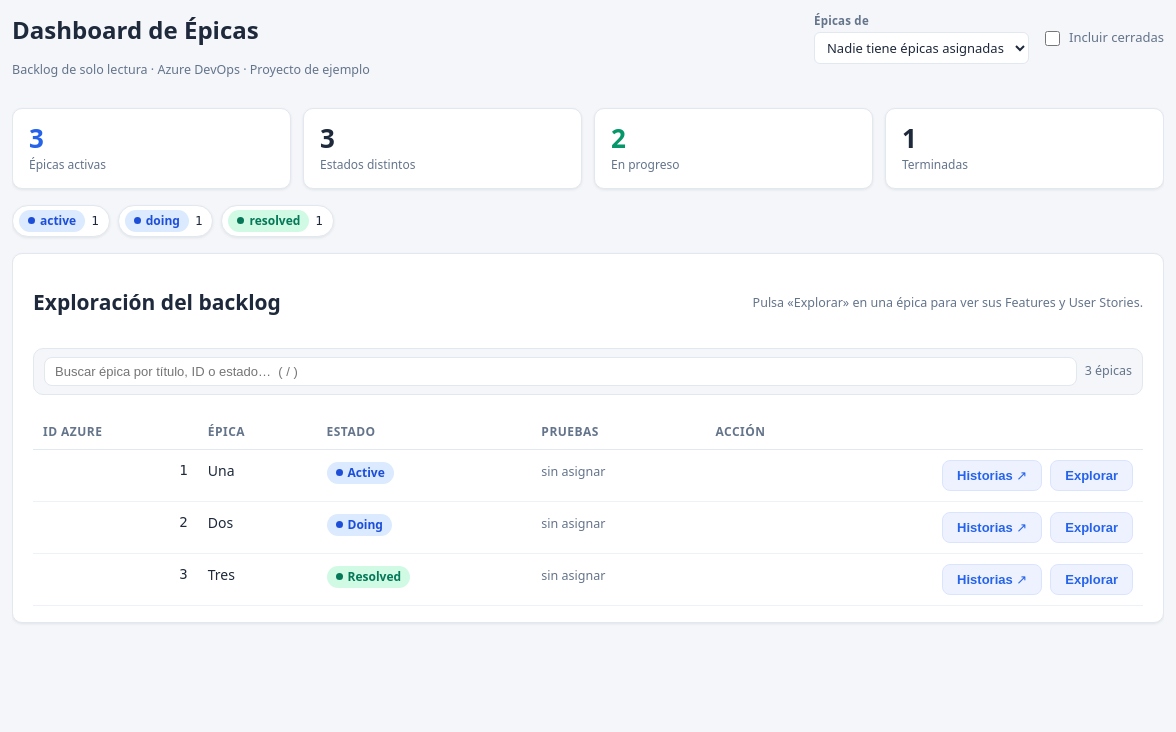
Test case: Buscador de épicas › anuncia cuántas épicas quedan y se limpia con el botón
Expected: the text "Una" is shown, [198,450,316,502]
Expected: the text "3 épicas" is shown, [1085,362,1132,381]
Type "d" into the search field labelled "Buscar épica por título, ID o estado… ( / )" at (560, 372), box [44,357,1077,386]
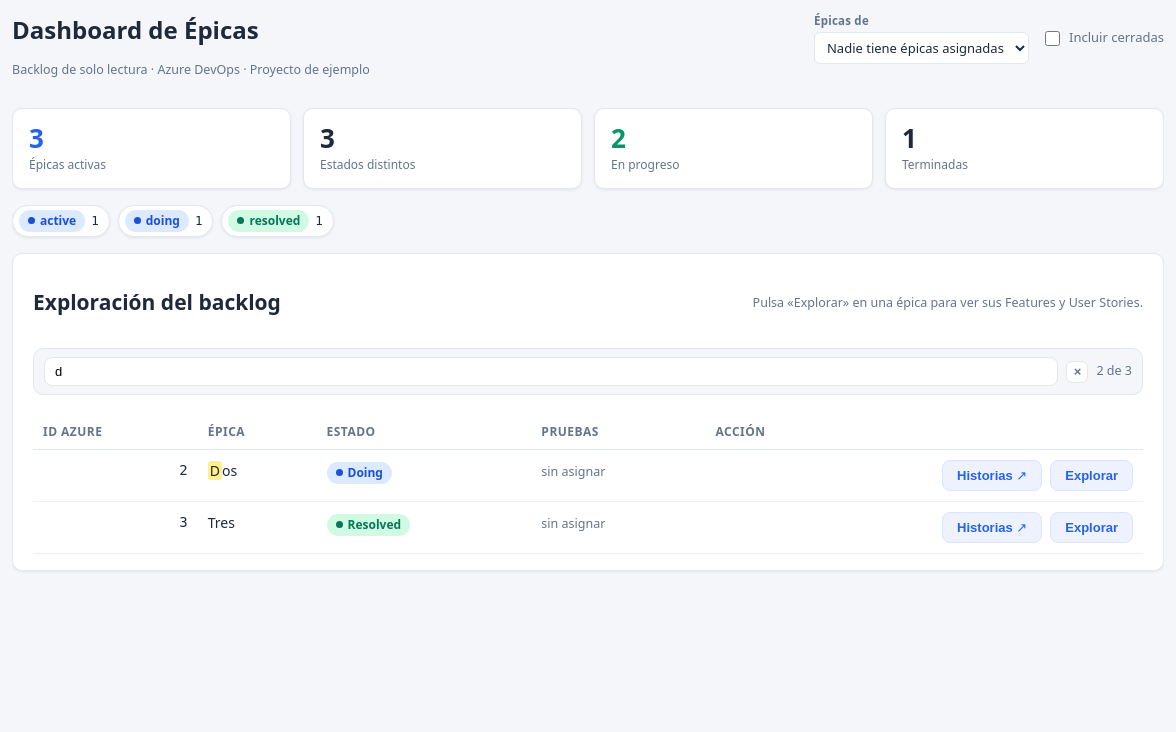
Expected: the text "2 de 3" is shown, [1096,362,1132,381]
Click the button named "limpiar la búsqueda" at (1078, 372), box [1066,361,1088,383]
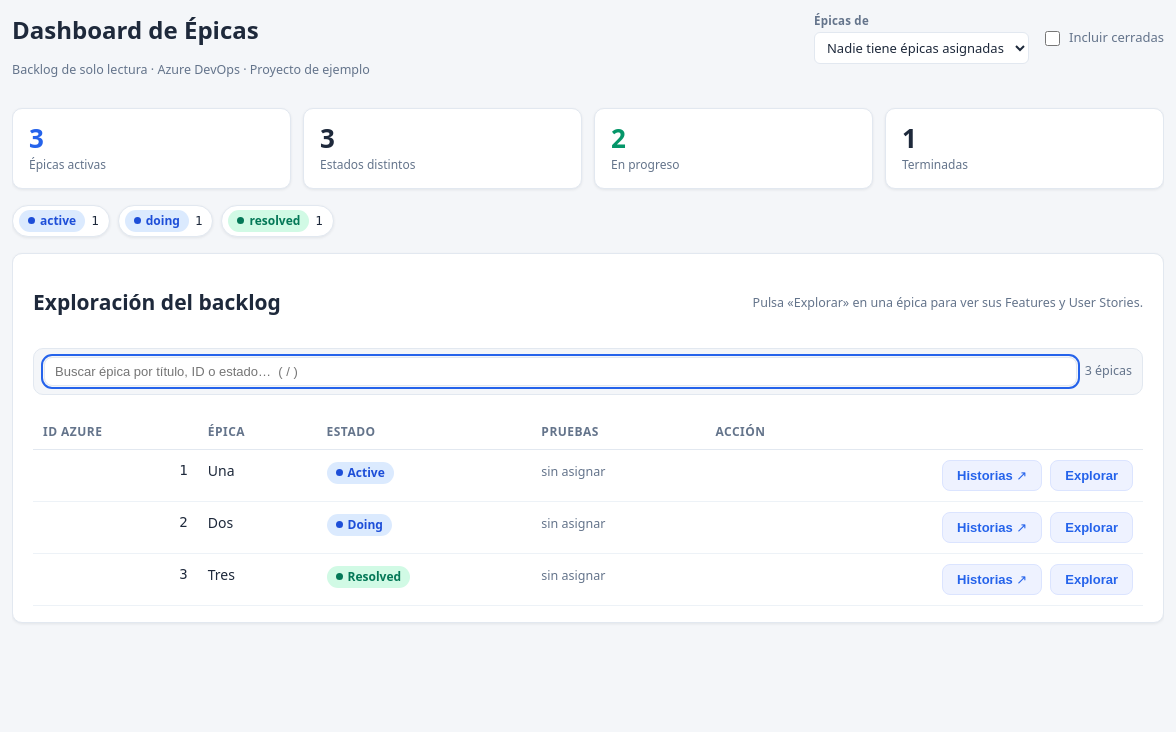
Expected: the search field labelled "Buscar épica por título, ID o estado… ( / )" is empty, [44,357,1077,386]
Expected: the text "3 épicas" is shown, [1085,362,1132,381]
